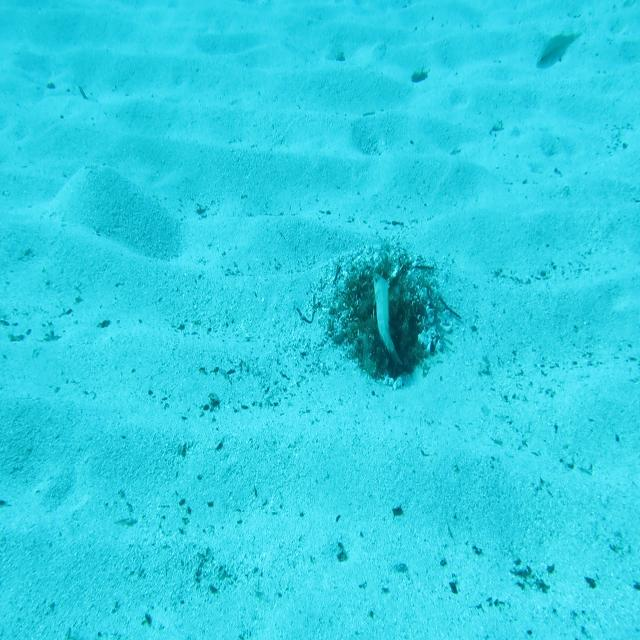ROLL: (370, 269, 404, 366)
female: (532, 20, 588, 75)
nest: (336, 242, 453, 385)
